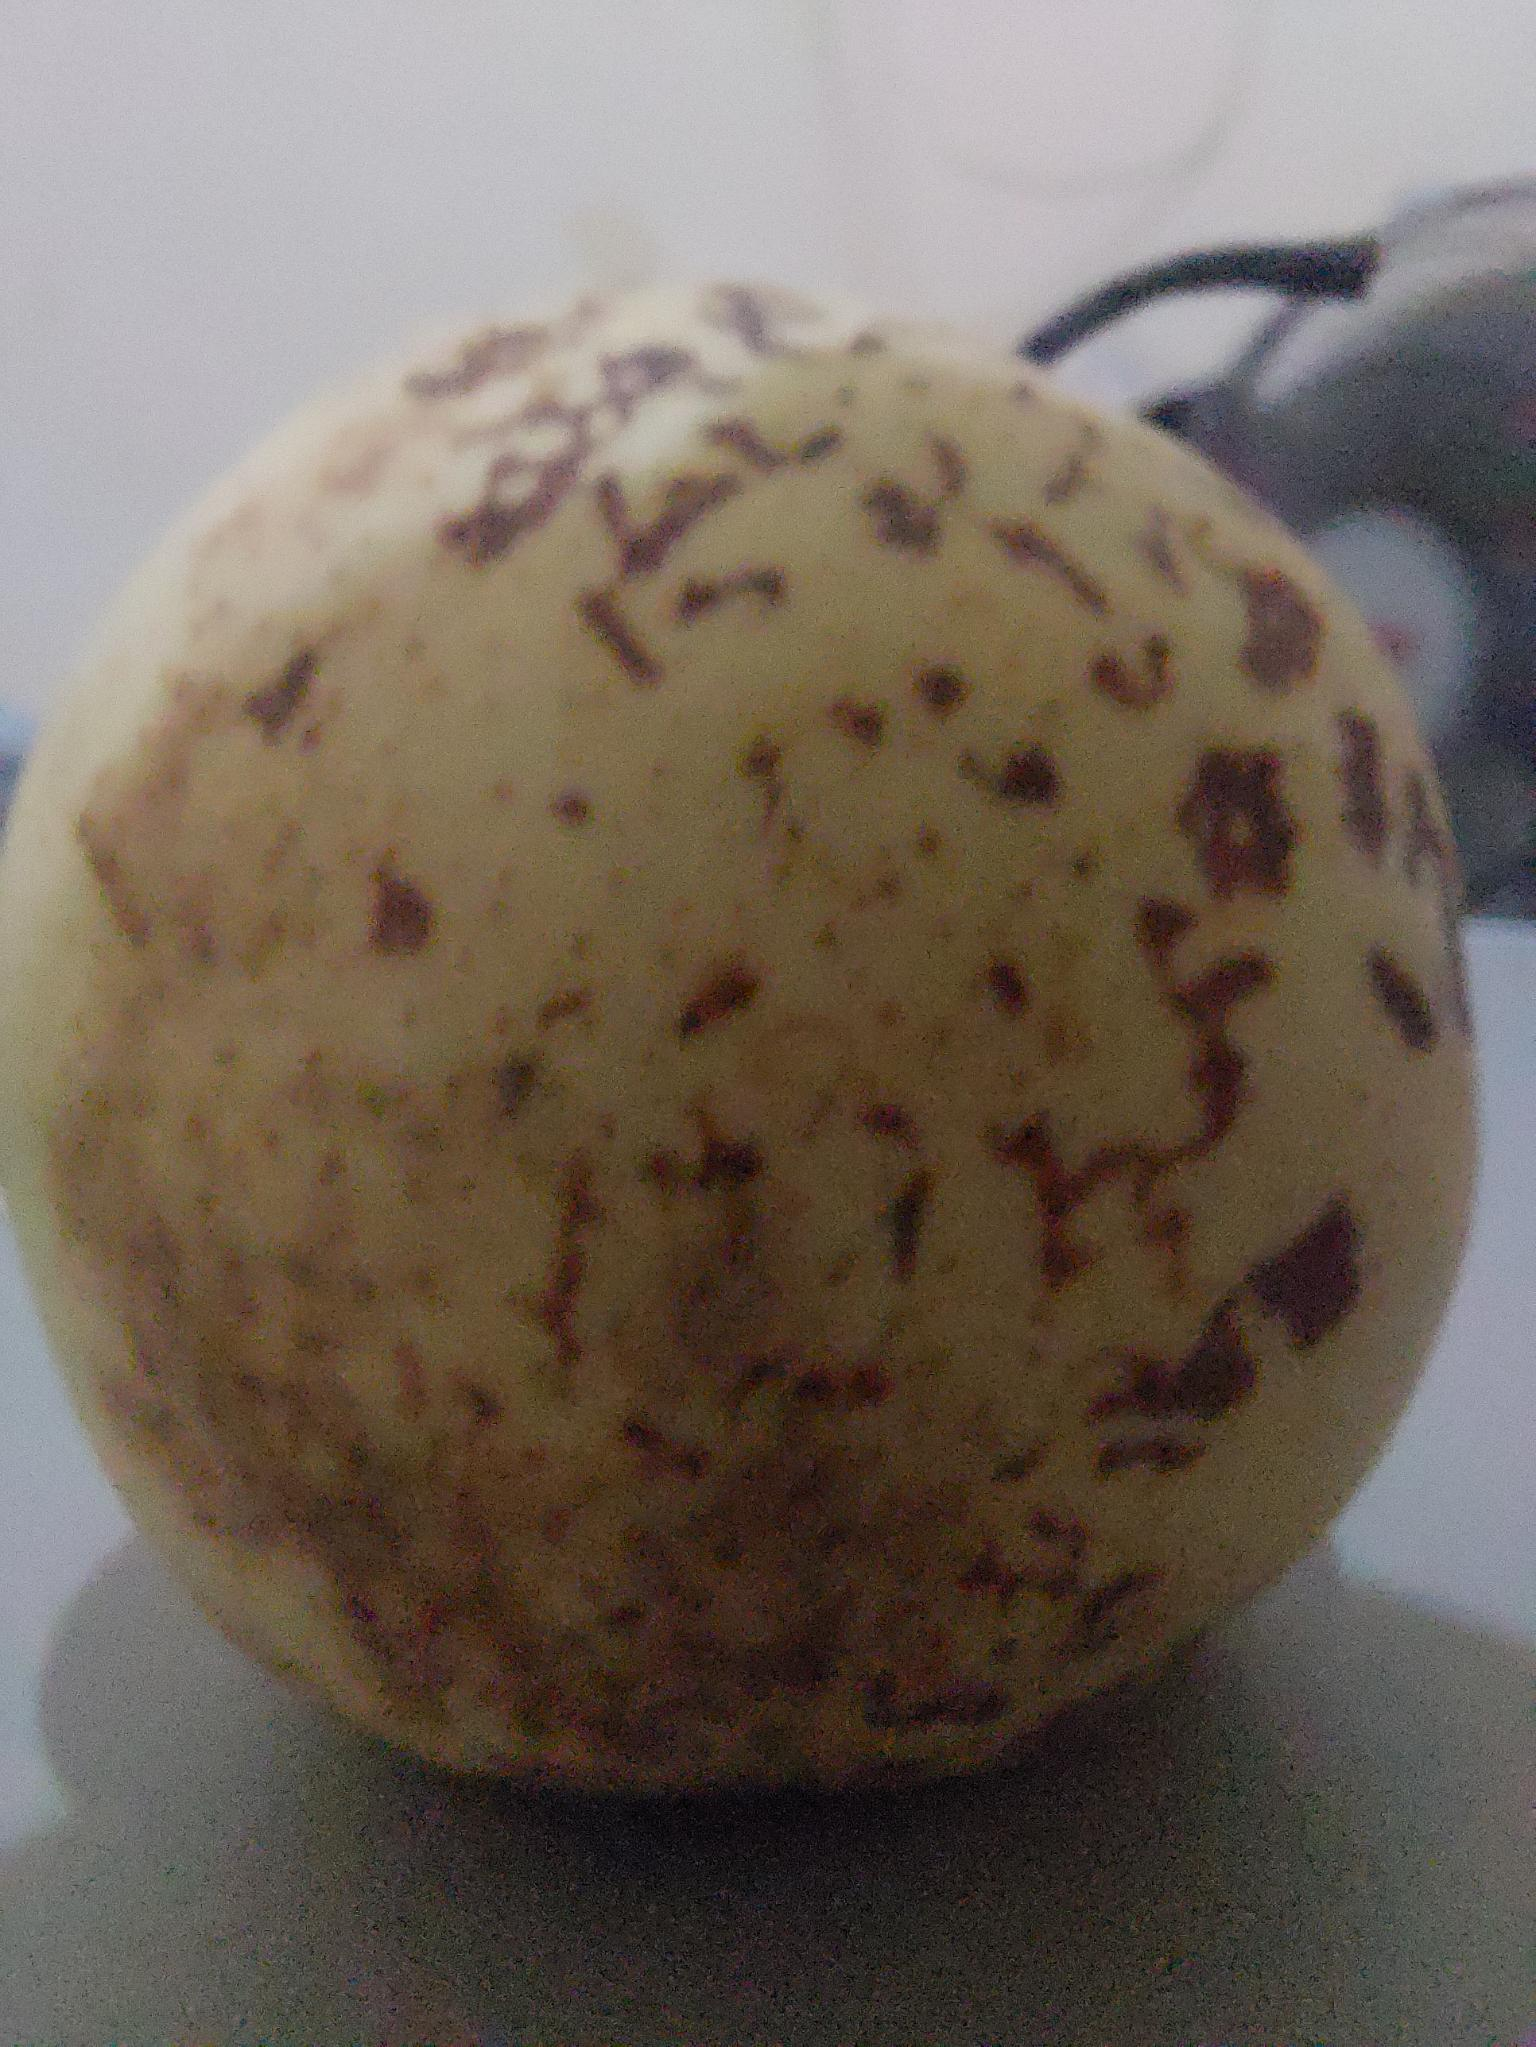Bad Pear: (0, 227, 1496, 1824)
